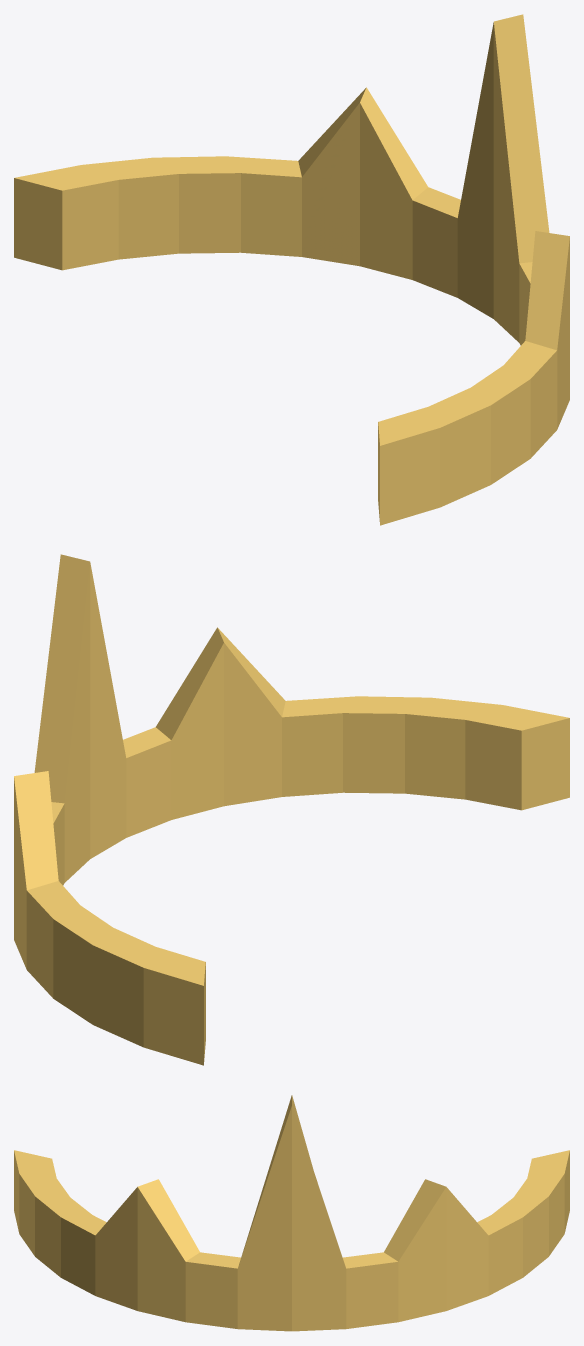
The model's file is crown.fbx.
3 renders of one model, top to bottom at view 1: azimuth 30°, elevation 25°; view 2: azimuth 150°, elevation 25°; view 3: azimuth 270°, elevation 25°, orthographic. The views are drawn at different scales.
Visible parts, largest first — view 1: Cylinder.001; view 2: Cylinder.001; view 3: Cylinder.001.
Part boxes in pixels (x1,y1,x2,y2): Cylinder.001: (14, 14, 569, 525); Cylinder.001: (14, 554, 569, 1065); Cylinder.001: (14, 1095, 569, 1331).
Size of the model in its own units: 22.67 by 10.17 by 11.66.
